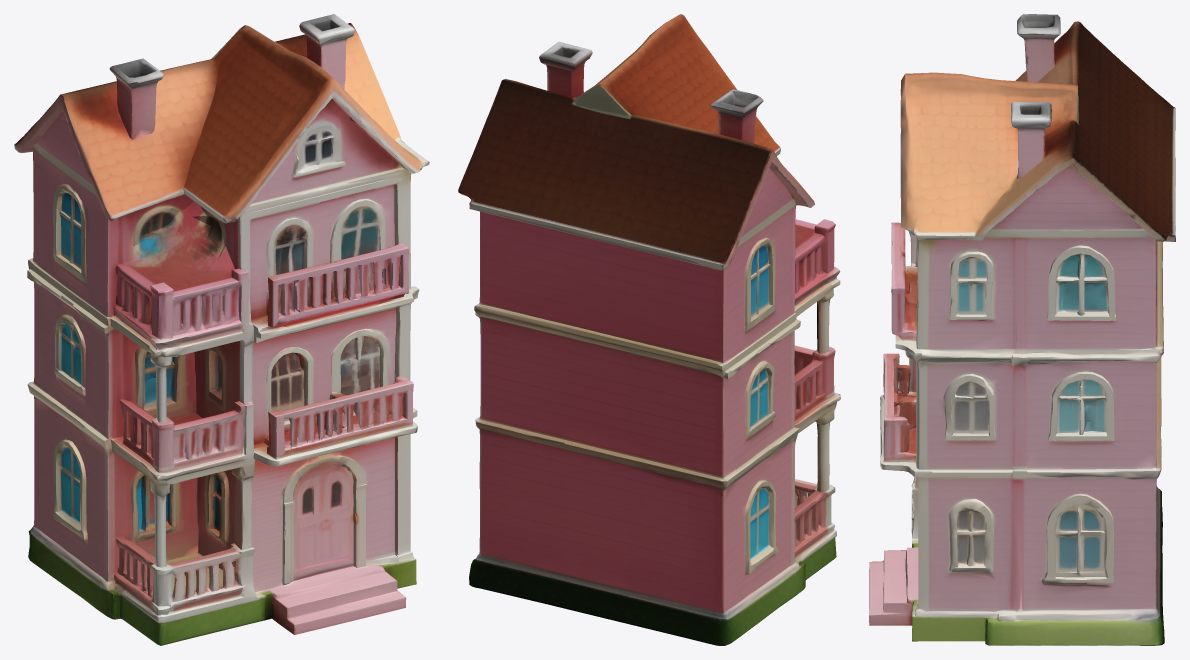
3 renders of one model, left to right at view 1: azimuth 30°, elevation 25°; view 2: azimuth 150°, elevation 25°; view 3: azimuth 270°, elevation 25°, orthographic. The views are drawn at different scales.
Visible parts, largest first — view 1: world_0; view 2: world_0; view 3: world_0.
Part boxes in pixels (x1,y1,x2,y2): world_0: (14,14,429,645); world_0: (458,14,840,645); world_0: (869,14,1175,645).
Bounding box in the file's own units: 0.565 × 0.999 × 0.5261.
Materials: 1 (1 with a texture image).
